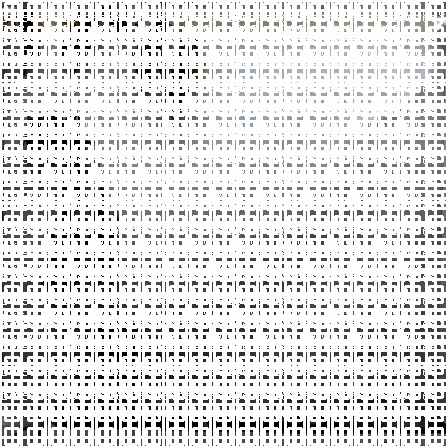bee: (76, 308, 149, 385), (81, 189, 133, 289), (34, 205, 85, 305), (161, 28, 210, 130), (127, 7, 173, 101), (59, 112, 101, 210), (52, 3, 104, 82), (7, 93, 65, 150), (8, 5, 47, 79)
